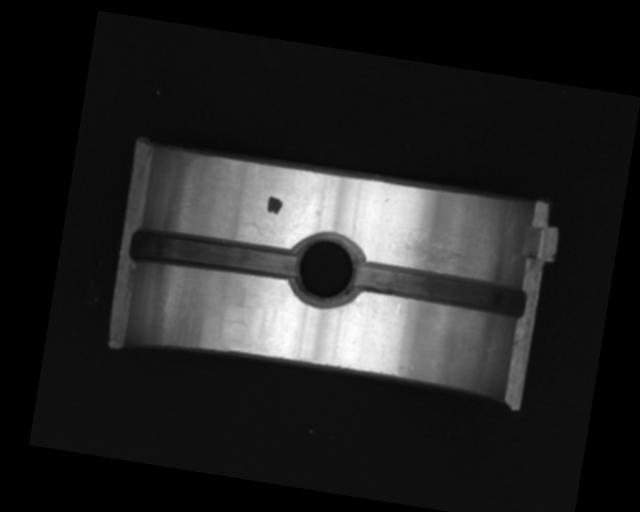blot: (265, 195, 284, 216)
gap: (349, 258, 529, 320), (128, 224, 297, 284)
hole: (285, 228, 365, 310)
nick: (380, 301, 402, 357)
scratch: (395, 227, 496, 280)
